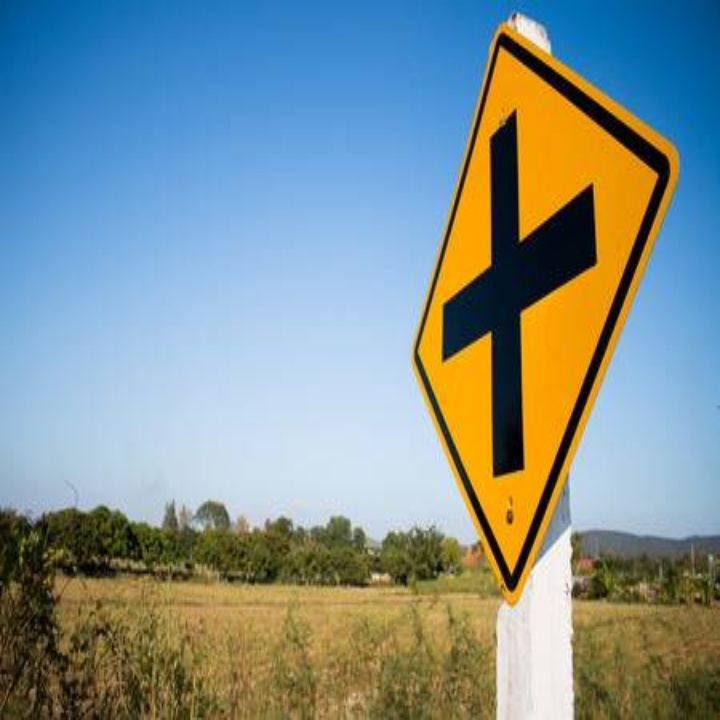inter: (434, 100, 602, 496)
